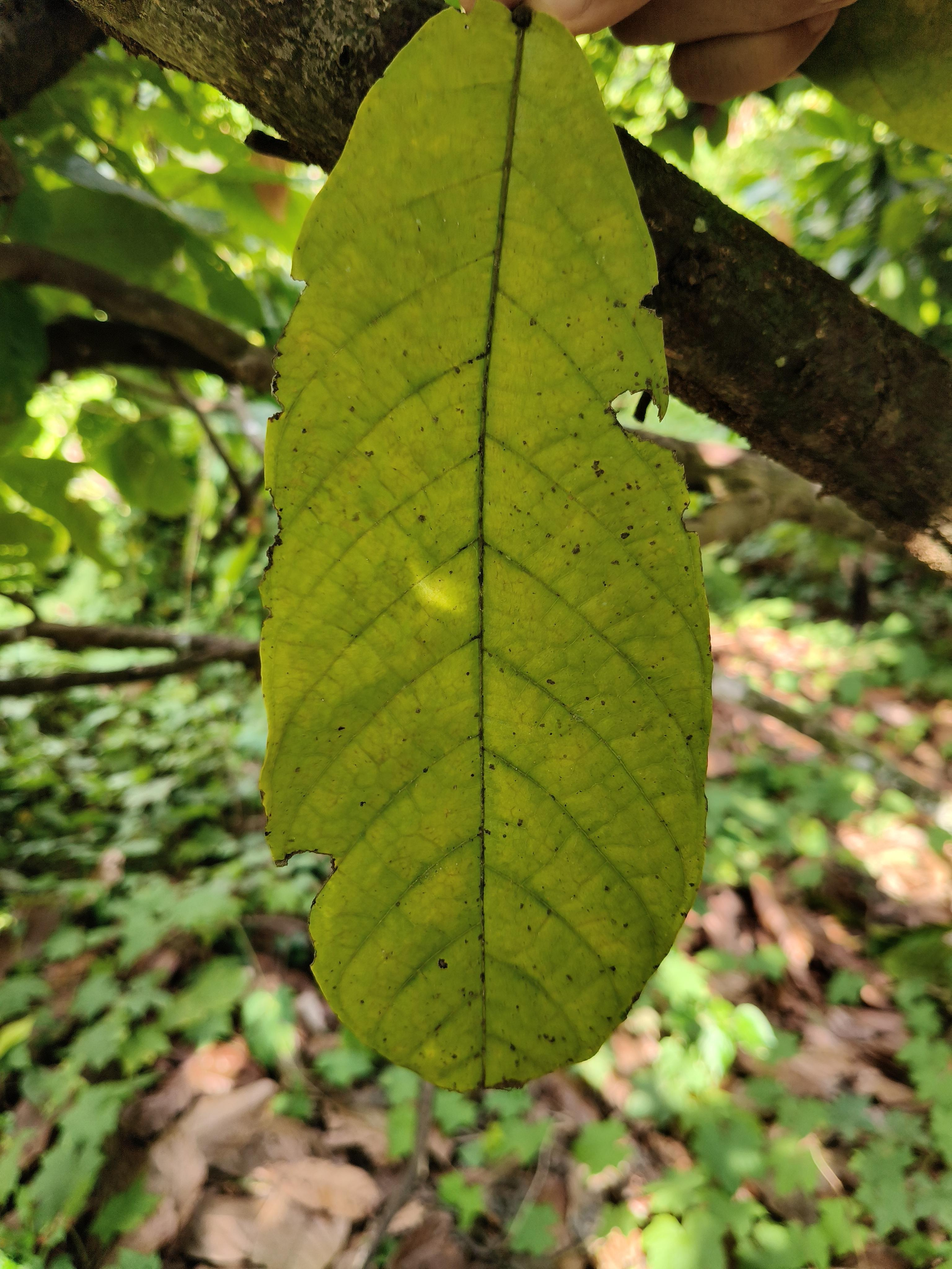deficiencia_potasio: (250, 0, 746, 1116)
